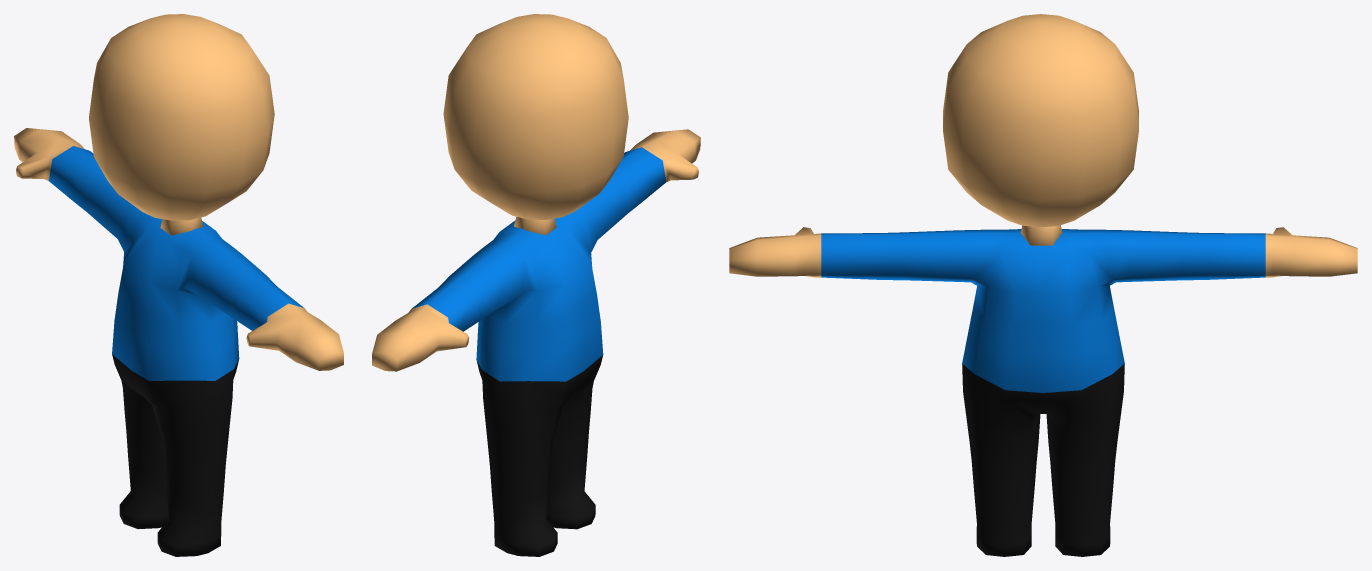
File: cha03_guess.FBX
3 renders of one model, left to right at view 1: azimuth 30°, elevation 25°; view 2: azimuth 150°, elevation 25°; view 3: azimuth 270°, elevation 25°, orthographic. The views are drawn at different scales.
Visible parts, largest first — view 1: cha03_vipguess; view 2: cha03_vipguess; view 3: cha03_vipguess.
Part boxes in pixels (x1,y1,x2,y2): cha03_vipguess: [14, 14, 343, 556]; cha03_vipguess: [372, 14, 700, 556]; cha03_vipguess: [729, 14, 1357, 556].
Bounding box in the file's own units: 0.7338 × 2.24 × 2.44.
